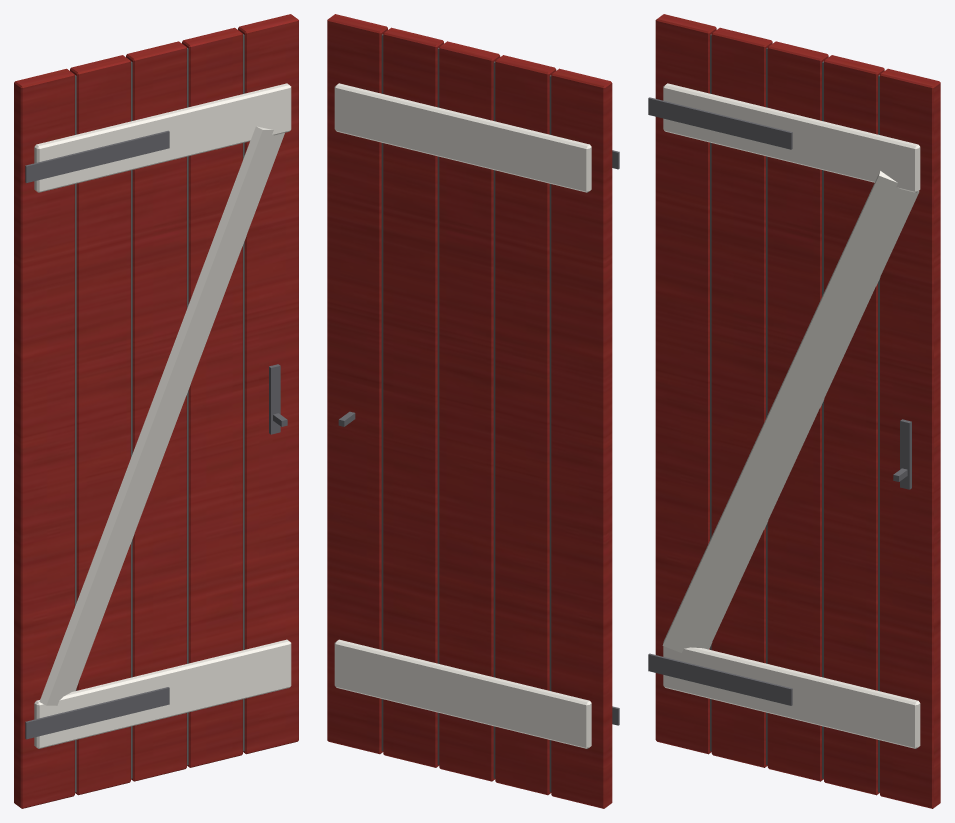
File: barn_door_small.glb
3 renders of one model, left to right at view 1: azimuth 30°, elevation 25°; view 2: azimuth 150°, elevation 25°; view 3: azimuth 330°, elevation 25°, orthographic.
Visible parts, largest first — view 1: barn_door_small_barn, barn_door_small_trim, barn_door_small_iron, barn_door_small_dark; view 2: barn_door_small_barn, barn_door_small_trim, barn_door_small_dark; view 3: barn_door_small_barn, barn_door_small_trim, barn_door_small_iron, barn_door_small_dark.
Part boxes in pixels (box(x1,y1,x2,y2)): barn_door_small_barn: box(14, 14, 298, 808); barn_door_small_trim: box(34, 83, 291, 748); barn_door_small_iron: box(25, 130, 287, 739); barn_door_small_dark: box(75, 34, 244, 792); barn_door_small_barn: box(327, 14, 612, 808); barn_door_small_trim: box(334, 83, 591, 748); barn_door_small_dark: box(381, 34, 551, 792); barn_door_small_barn: box(655, 14, 940, 808); barn_door_small_trim: box(662, 83, 920, 748); barn_door_small_iron: box(648, 97, 911, 705); barn_door_small_dark: box(710, 34, 879, 792).
Bounding box in the file's own units: 0.877 × 2.17 × 0.165.
Materials: 4 (1 with a texture image).
